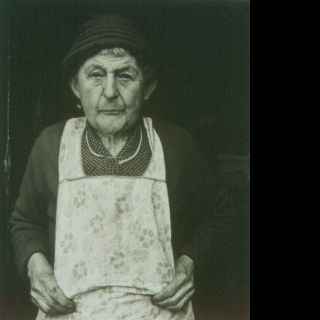without_mask: (67, 46, 157, 133)
